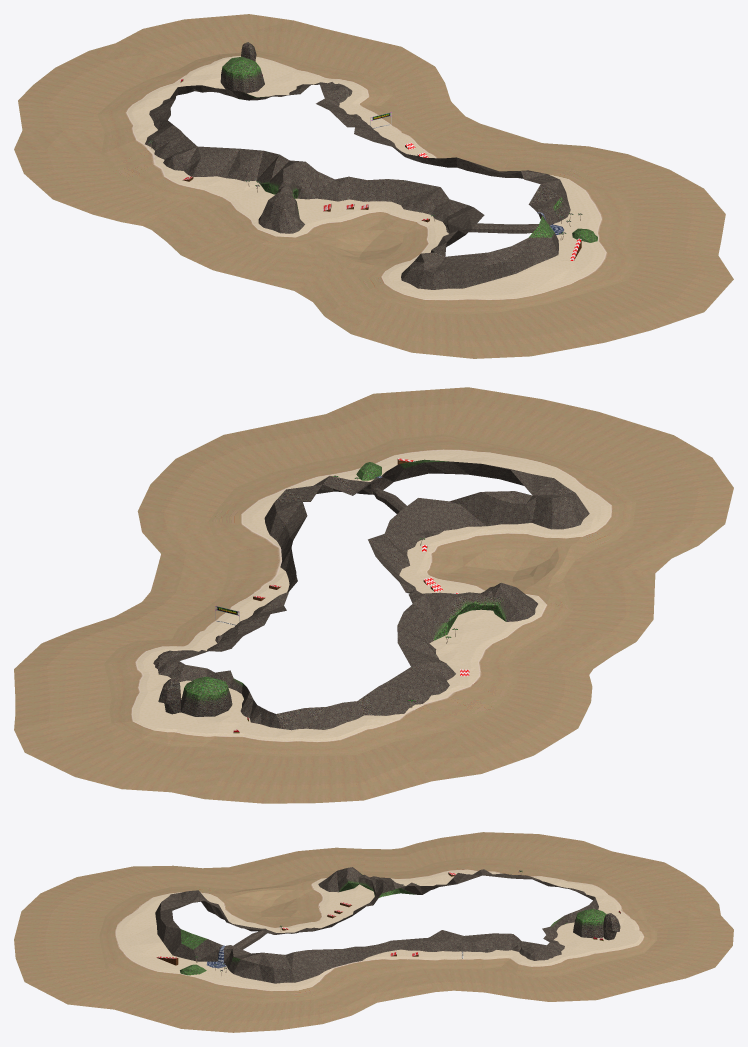
The model's file is KoopaTroopaBeach.obj.
The picture shows the model from 3 angles, top to bottom: view 1: azimuth 30°, elevation 25°; view 2: azimuth 150°, elevation 25°; view 3: azimuth 270°, elevation 25°; orthographic projection. The views are drawn at different scales.
Parts seen in each view (by area): view 1: KoopaTroopaBeach; view 2: KoopaTroopaBeach; view 3: KoopaTroopaBeach.
Part boxes in pixels (box(x1,y1,x2,y2)): KoopaTroopaBeach: box(14, 14, 733, 358); KoopaTroopaBeach: box(14, 387, 733, 803); KoopaTroopaBeach: box(14, 832, 733, 1032).
Size of the model in its own units: 433 by 29.8 by 656.
Materials: 25 (25 with a texture image).
